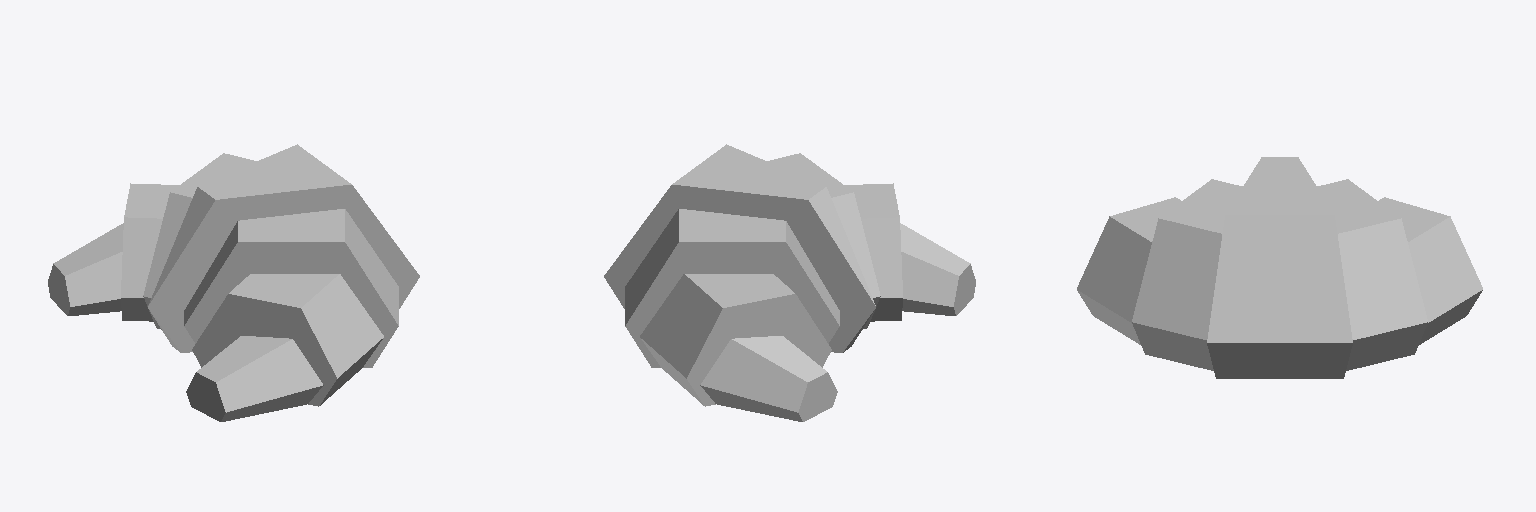
Rendered from croissant.obj.
The picture shows the model from 3 angles: view 1: azimuth 30°, elevation 25°; view 2: azimuth 150°, elevation 25°; view 3: azimuth 270°, elevation 25°; orthographic projection.
Visible parts, largest first — view 1: croissant; view 2: croissant; view 3: croissant.
Boxes of the visible parts, <box> form: croissant: <box>48,144,419,421</box>; croissant: <box>604,144,975,421</box>; croissant: <box>1077,157,1482,378</box>.
Size of the model in its own units: 0.3461 by 0.1936 by 0.4777.